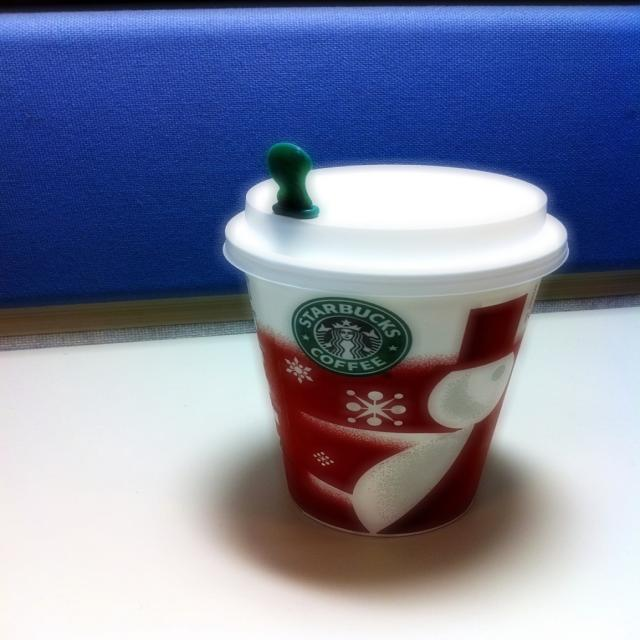starbucks: (291, 297, 413, 377)
